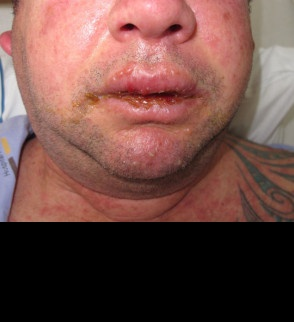SJS-TEN: (2, 0, 294, 222)
